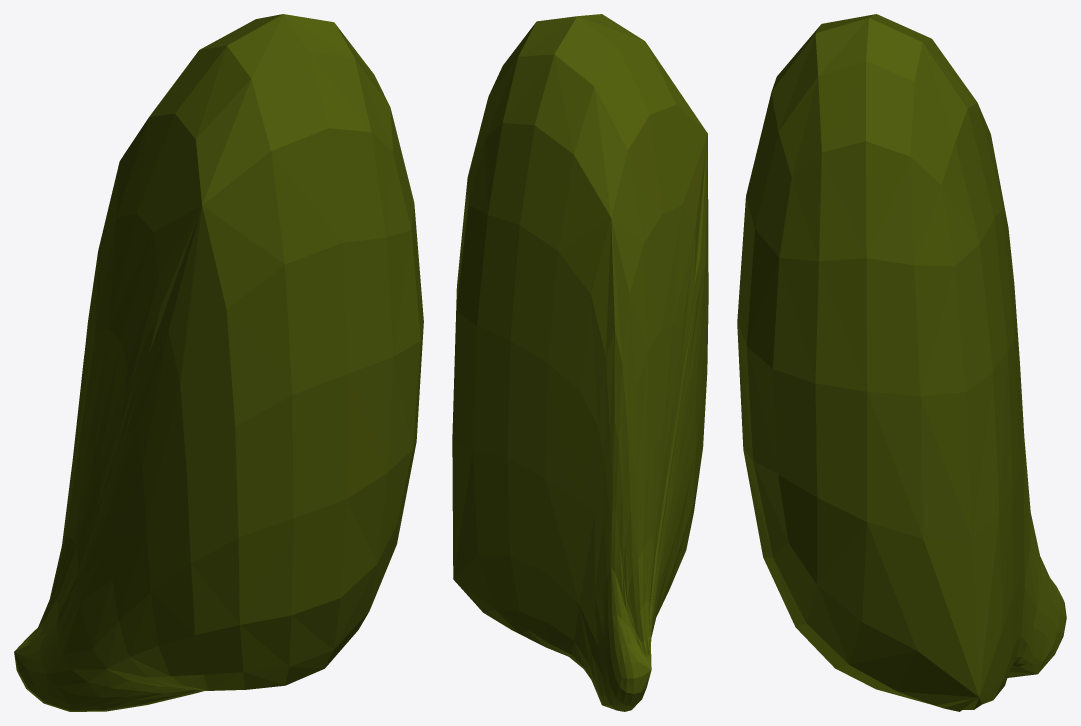
The picture shows the model from 3 angles, left to right: view 1: azimuth 30°, elevation 25°; view 2: azimuth 150°, elevation 25°; view 3: azimuth 270°, elevation 25°; orthographic projection. The views are drawn at different scales.
Parts seen in each view (by area): view 1: 472_Cube.1914; view 2: 472_Cube.1914; view 3: 472_Cube.1914.
Part boxes in pixels (x1,y1,x2,y2): 472_Cube.1914: [14, 14, 423, 711]; 472_Cube.1914: [452, 14, 708, 711]; 472_Cube.1914: [737, 14, 1066, 711].
Size of the model in its own units: 5.48 by 12.61 by 5.28.
